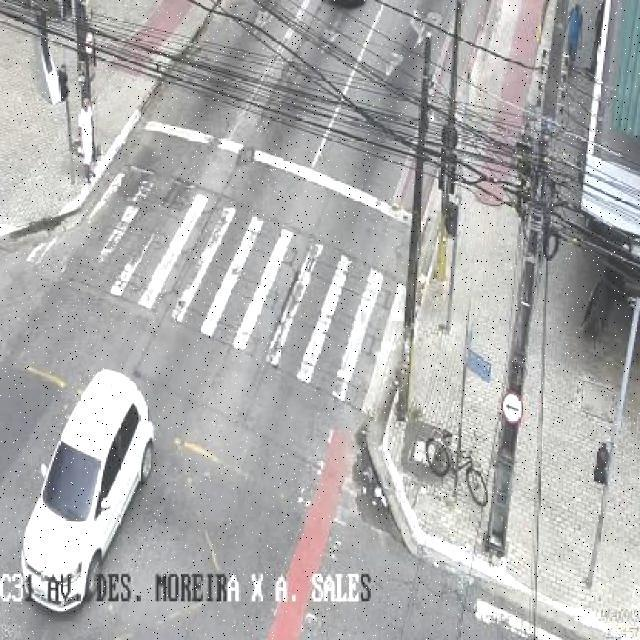Car: (22, 368, 154, 616)
Cycle: (424, 426, 490, 509)
